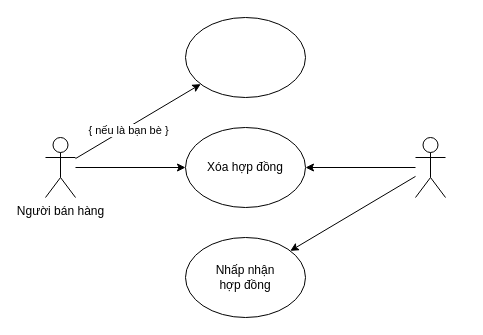
This 483x335 diagram has some shape labels left out. The box of each missing label's shape, as (x1, y1, x2, y2) in pixels:
Nhà sản xuất: (414, 136, 446, 198)
Tạo hợp đồng kí gửi: (184, 16, 306, 98)
